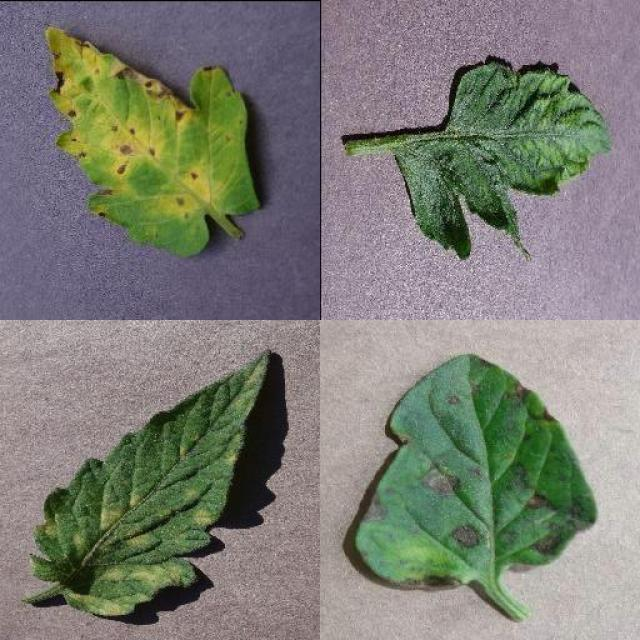Early Blight: (358, 348, 596, 594)
Septoria: (44, 24, 264, 254)
